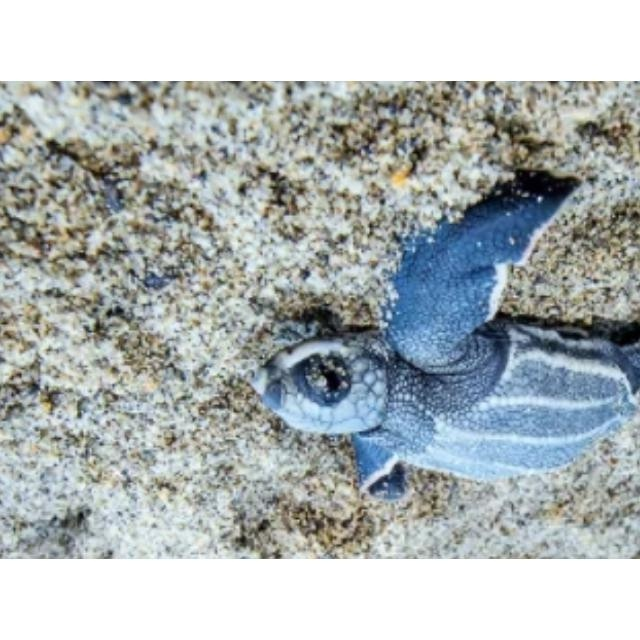turtle: (250, 165, 638, 502)
